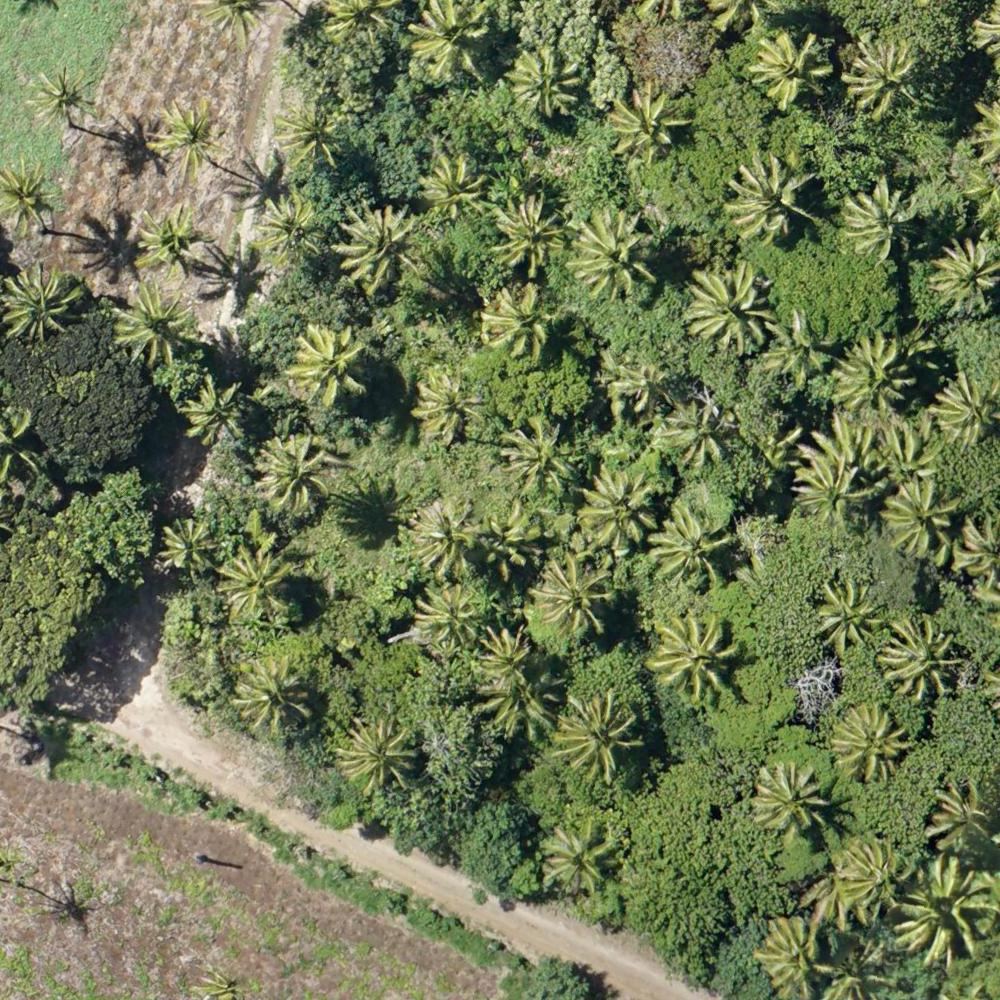Palm: (904, 860, 991, 966), (567, 208, 659, 299), (791, 455, 885, 539), (651, 615, 741, 701), (684, 266, 770, 355), (723, 159, 815, 241), (649, 502, 738, 586), (557, 693, 645, 776), (884, 617, 967, 704), (113, 282, 197, 366), (338, 201, 418, 289), (251, 436, 334, 515), (605, 79, 686, 159), (581, 469, 662, 548), (290, 322, 369, 402), (533, 561, 617, 636), (882, 478, 961, 557), (340, 718, 419, 797), (835, 334, 913, 414), (839, 179, 916, 260), (402, 497, 480, 576), (233, 663, 312, 741), (847, 39, 924, 119), (752, 32, 834, 107), (409, 1, 490, 76), (2, 262, 78, 341), (543, 817, 621, 893), (834, 702, 908, 782), (472, 671, 563, 736), (215, 548, 289, 626), (493, 193, 564, 273), (150, 102, 225, 176), (812, 579, 886, 654), (504, 418, 576, 495), (412, 373, 489, 444), (838, 839, 909, 916), (484, 285, 553, 362), (757, 917, 826, 994), (514, 46, 589, 116), (750, 763, 829, 829), (419, 154, 490, 225), (930, 238, 1000, 310), (1, 164, 63, 244), (415, 583, 481, 658), (31, 65, 101, 135), (255, 196, 322, 269), (667, 395, 735, 466), (932, 374, 999, 446), (929, 781, 993, 856), (768, 309, 831, 385), (138, 207, 206, 273), (183, 376, 248, 445), (278, 102, 343, 167), (614, 355, 679, 417), (476, 627, 540, 684), (157, 519, 216, 575), (483, 515, 539, 574)
